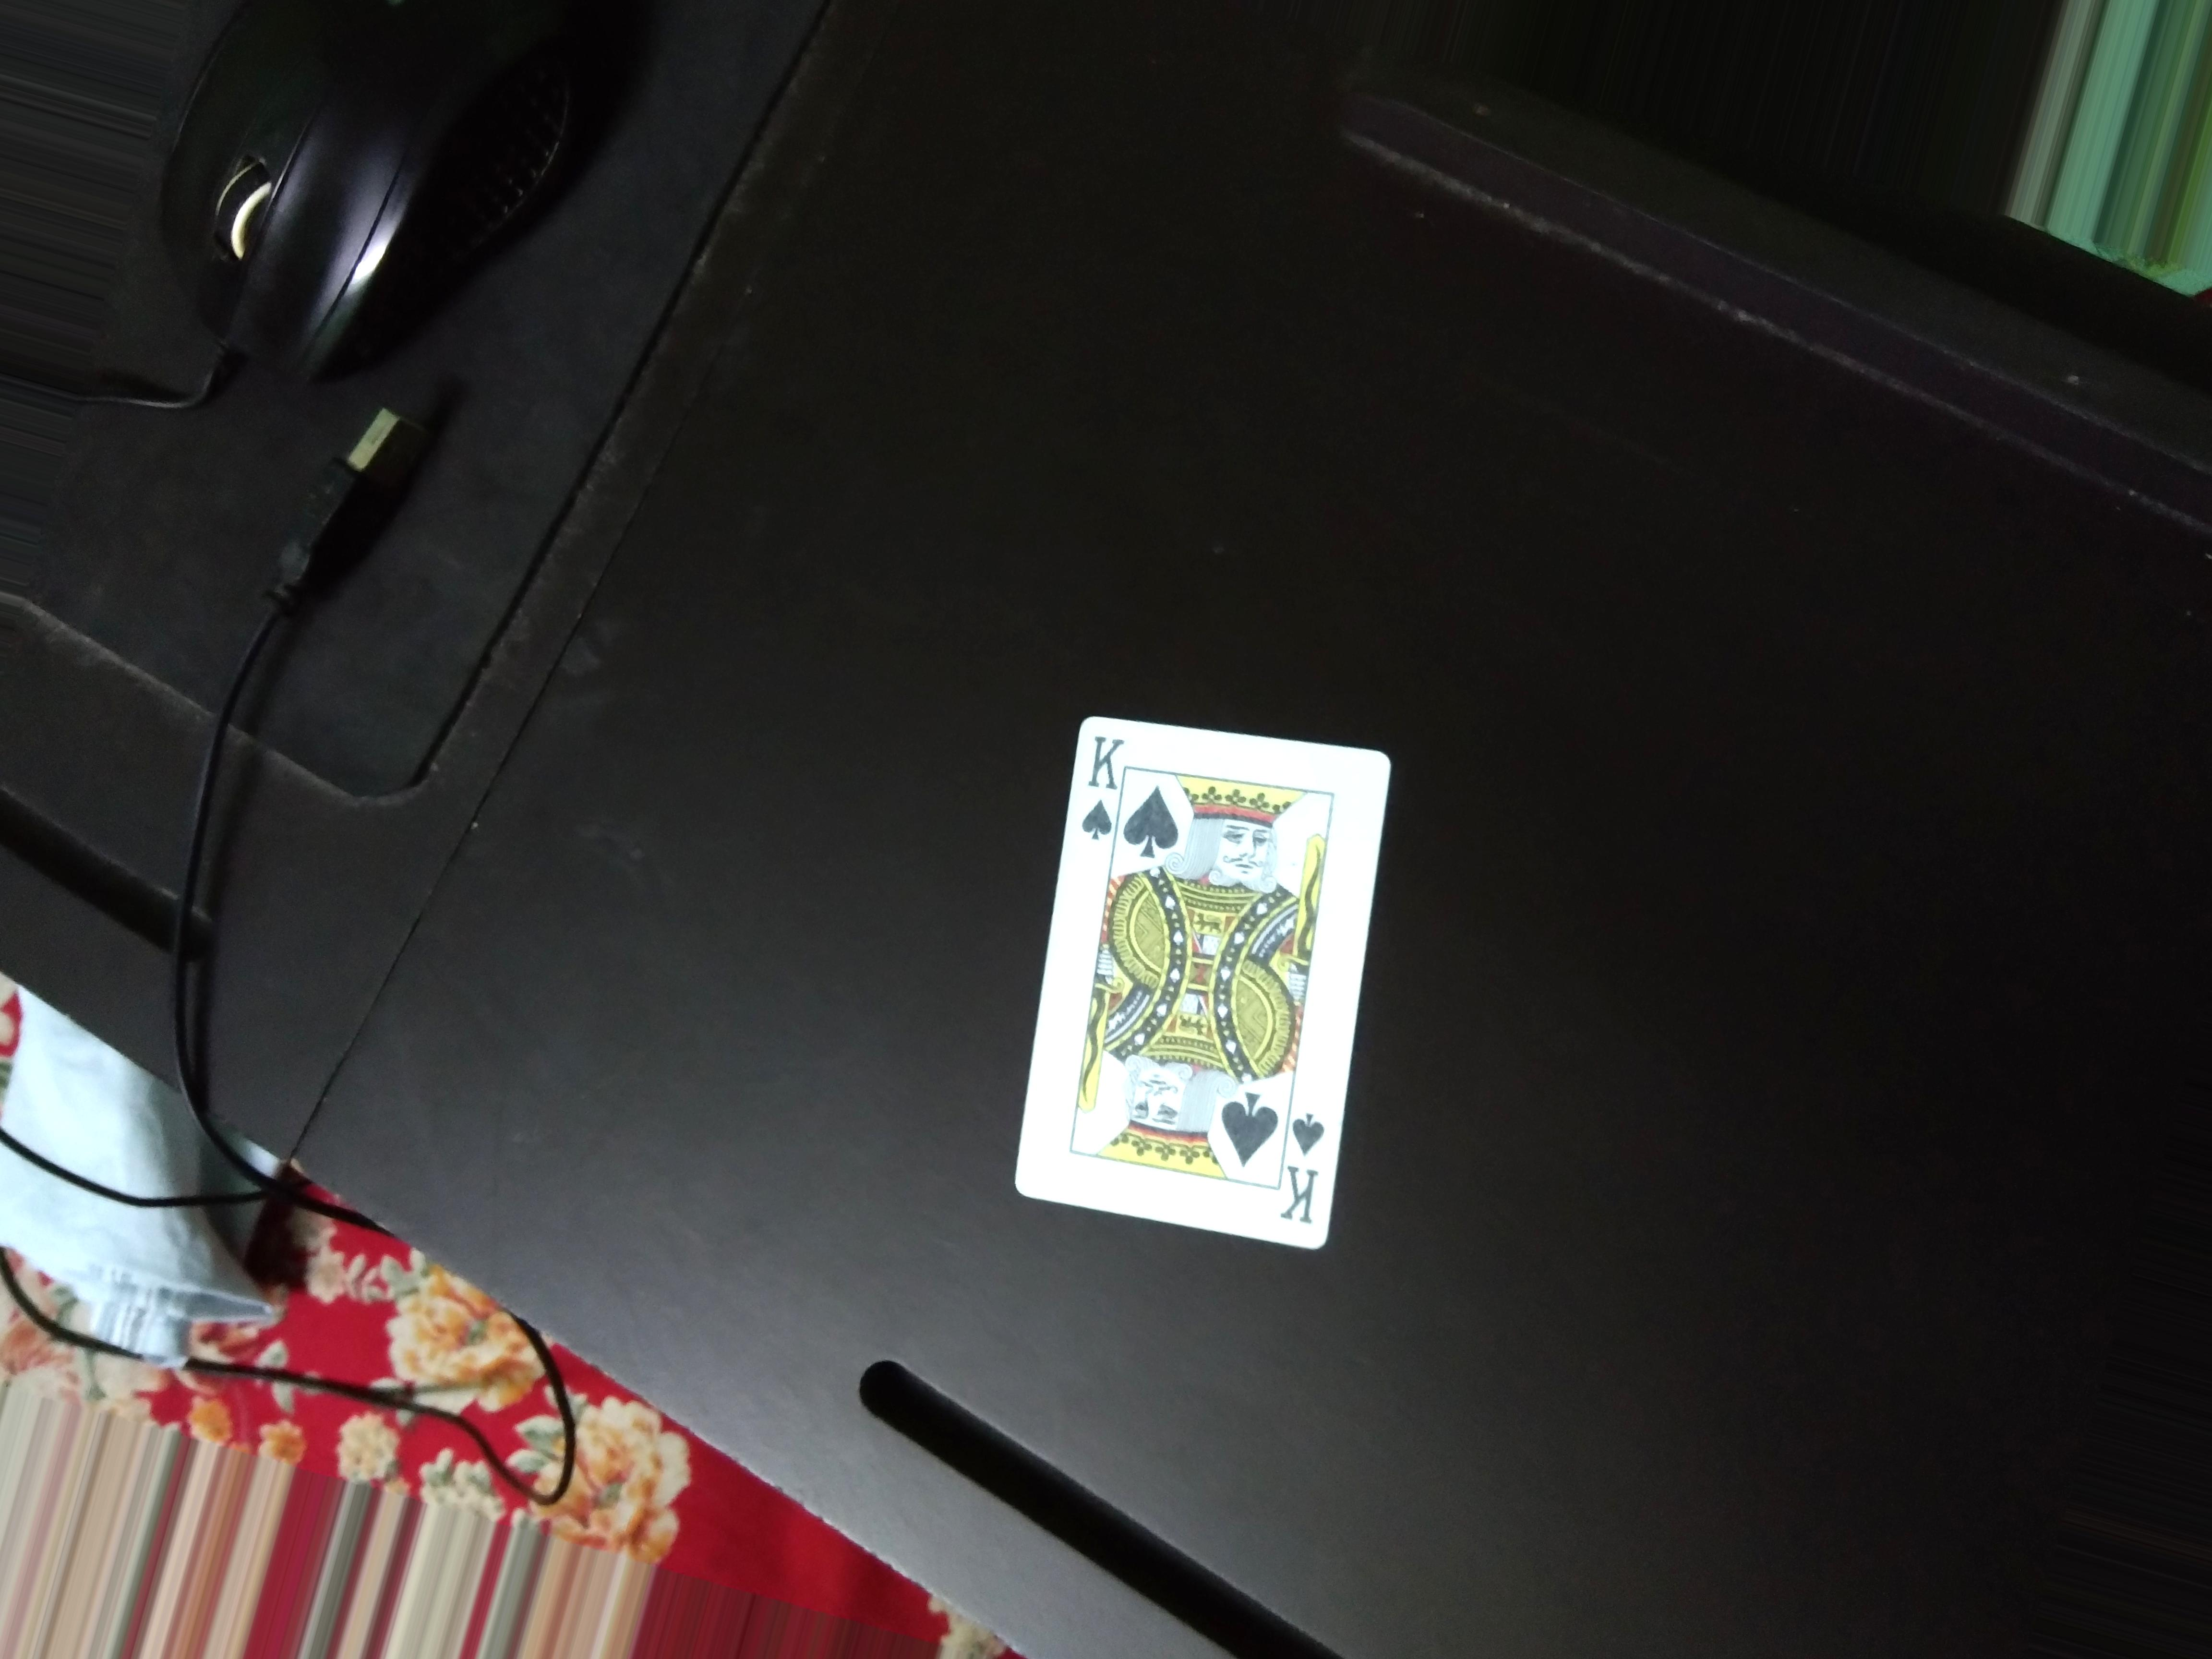KS: (1275, 1091, 1318, 1244)
